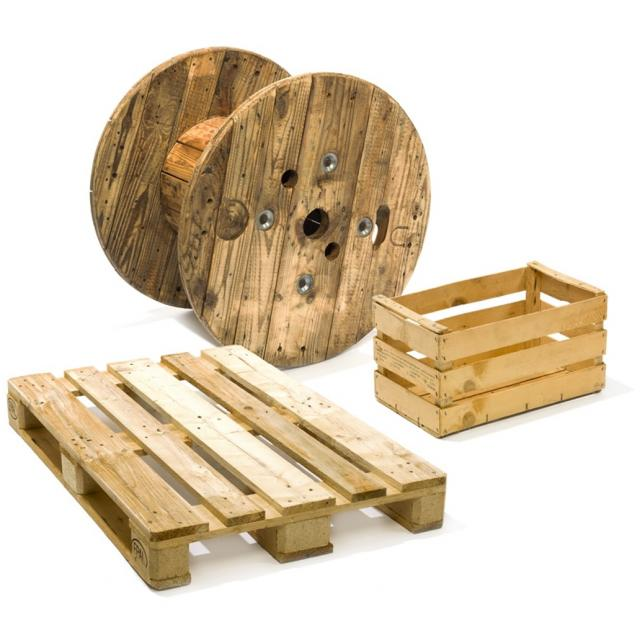green waste: (2, 1, 634, 636)
